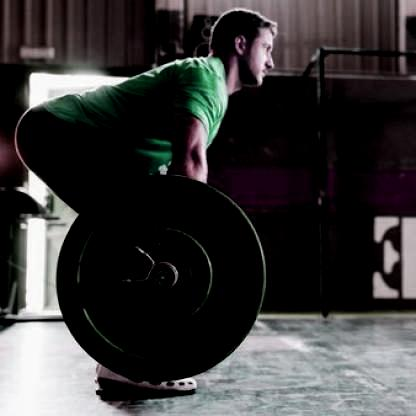Barbell: (143, 258, 176, 302)
